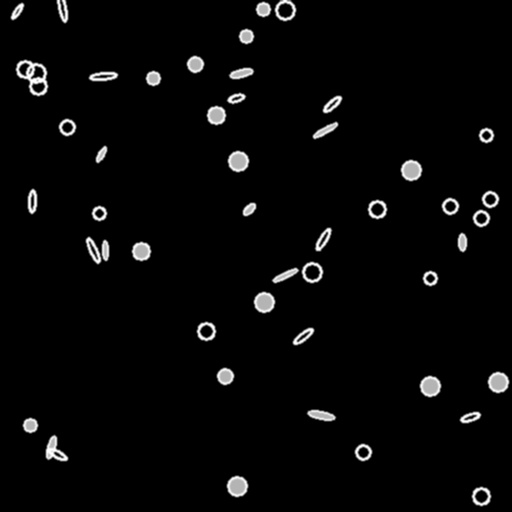pseudomonas: (292, 326, 314, 346), (314, 227, 332, 251), (85, 237, 101, 263), (272, 267, 298, 283), (312, 122, 338, 138), (322, 95, 342, 113), (46, 446, 68, 462), (45, 435, 57, 459), (229, 67, 253, 79), (56, 0, 68, 22), (308, 410, 334, 420), (460, 411, 480, 423), (10, 3, 24, 19), (89, 72, 117, 80), (241, 202, 257, 216), (95, 146, 107, 162), (28, 189, 36, 213), (227, 93, 245, 103), (102, 240, 108, 260), (459, 234, 465, 250)
synechocystis: (229, 152, 247, 170), (489, 373, 507, 391), (421, 377, 439, 395), (303, 263, 321, 281), (228, 477, 246, 495), (276, 1, 294, 19), (27, 64, 45, 82), (402, 161, 420, 179), (255, 293, 273, 311), (198, 323, 214, 339), (369, 201, 385, 217), (17, 61, 33, 77), (30, 78, 46, 94), (473, 488, 489, 504), (208, 107, 224, 123), (133, 243, 149, 259), (218, 369, 232, 383), (60, 120, 74, 134), (474, 211, 488, 225), (443, 199, 457, 213), (483, 192, 497, 206), (356, 445, 370, 459), (188, 57, 202, 71), (480, 129, 492, 141), (147, 72, 159, 84), (24, 419, 36, 431), (240, 30, 252, 42), (424, 272, 436, 284), (93, 207, 105, 219), (257, 3, 269, 15)
